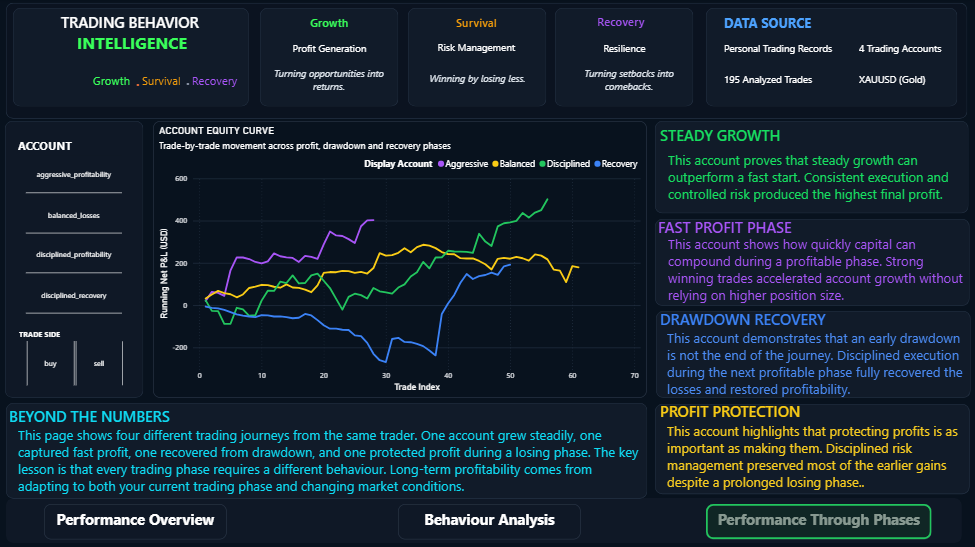

Layout of this report page (visuals, bound fields, positions):
{"tool":"powerbi","page":{"name":"Performance Through Phases","canvas":[1600,900],"ordinal":2},"visuals":[{"type":"shape","box":[10,3.6,1579.5,195.6],"z":0},{"type":"shape","box":[25.4,14.5,385.8,161.2],"z":1000},{"type":"shape","box":[429.3,14.5,226.4,161.2],"z":2000},{"type":"shape","box":[670.2,14.5,226.4,161.2],"z":3000},{"type":"shape","box":[911.1,14.5,226.4,161.2],"z":4000},{"type":"shape","box":[1159.2,14.5,411.2,161.2],"z":5000},{"type":"shape","box":[10.9,199.2,226.4,452.8],"z":6000},{"type":"textbox","box":[21.6,16.2,388.8,54],"z":7000},{"type":"textbox","box":[27,46.8,383.4,48.6],"z":8000},{"type":"shape","box":[12.6,817.2,1564.2,73.8],"z":9000},{"type":"textbox","box":[150.3,115.9,74.3,38],"z":10000},{"type":"textbox","box":[230,115.9,74.3,38],"z":11000},{"type":"textbox","box":[313.4,115.9,85.1,38],"z":12000},{"type":"textbox","box":[302.5,123.2,16.3,32.6],"z":13000},{"type":"textbox","box":[221,125,16.3,32.6],"z":14000},{"type":"textbox","box":[428.4,21.6,226.8,37.8],"z":15000},{"type":"textbox","box":[669.6,21.6,226.8,37.8],"z":16000},{"type":"textbox","box":[910.8,19.8,216,39.6],"z":17000},{"type":"textbox","box":[428.4,64.8,226.8,34.2],"z":18000},{"type":"textbox","box":[669.6,63,226.8,34.2],"z":19000},{"type":"textbox","box":[910.8,64.8,226.8,34.2],"z":20000},{"type":"textbox","box":[442,106.9,199.2,58],"z":21000},{"type":"textbox","box":[684.7,114.1,201.1,52.5],"z":22000},{"type":"textbox","box":[940.1,106.9,186.6,56.2],"z":23000},{"type":"textbox","box":[1182.8,19.9,157.6,41.7],"z":24000},{"type":"textbox","box":[1182.8,65.2,195.6,30.8],"z":25000},{"type":"textbox","box":[1182.8,115.9,172.1,34.4],"z":26000},{"type":"textbox","box":[1403.8,65.2,172.1,34.4],"z":27000},{"type":"textbox","box":[1403.8,115.9,172.1,34.4],"z":28000},{"type":"slicer","fields":{"Values":["fact_trades.a/c_name"]},"box":[19.8,223.2,207,298.8],"z":29000},{"type":"slicer","fields":{"Values":["fact_trades.side"]},"box":[21.6,534.6,207,104.4],"z":30000},{"type":"textbox","box":[75.6,826.2,298.8,57.6],"z":31000},{"type":"textbox","box":[655.2,826.2,298.8,57.6],"z":32000},{"type":"textbox","box":[1159.2,826.2,369,57.6],"z":33000},{"type":"lineChart","title":"ACCOUNT EQUITY CURVE","fields":{"Category":["fact_trades.Trade Index"],"Y":["fact_trades.Running Net P&L"],"Series":["fact_trades.Display Account"]},"box":[253.6,199.2,807.8,452.8],"z":34000},{"type":"shape","box":[1074.6,199.8,513,151.2],"z":35000},{"type":"textbox","box":[1090.8,243,498.6,129.6],"z":36000},{"type":"textbox","box":[1078.2,201.6,243,43.2],"z":37000},{"type":"shape","box":[1074.6,360,514.8,142.2],"z":38000},{"type":"textbox","box":[1090.8,381.6,498.6,136.8],"z":39000},{"type":"textbox","box":[1074.6,351,246.6,43.2],"z":40000},{"type":"shape","box":[1076.4,511.2,514.8,142.2],"z":41000},{"type":"textbox","box":[1089,534.6,500.4,127.8],"z":42000},{"type":"textbox","box":[1078.2,502.2,302.4,43.2],"z":43000},{"type":"shape","box":[1074.6,662.4,514.8,147.6],"z":44000},{"type":"textbox","box":[1089,687.6,511.2,122.4],"z":45000},{"type":"textbox","box":[1078.2,653.4,257.4,43.2],"z":46000},{"type":"shape","box":[12.6,660.6,1049.4,156.6],"z":47000},{"type":"textbox","box":[27,693,1035,124.2],"z":48000},{"type":"textbox","box":[12.6,660.6,275.4,45],"z":49000},{"type":"actionButton","box":[75.6,829.8,298.8,54],"z":50000},{"type":"actionButton","box":[655.2,829.8,298.8,54],"z":51000},{"type":"actionButton","box":[1159.2,826.2,369,57.6],"z":52000}]}

Visuals, with their boxes in screenshot pixels (x1, y1, x2, y2), scaled from the page's 1600x900 canvas onto the 975x547 screenshot:
shape: select_region(6, 2, 969, 121)
shape: select_region(15, 9, 251, 107)
shape: select_region(262, 9, 400, 107)
shape: select_region(408, 9, 546, 107)
shape: select_region(555, 9, 693, 107)
shape: select_region(706, 9, 957, 107)
shape: select_region(7, 121, 145, 396)
textbox: select_region(13, 10, 250, 43)
textbox: select_region(16, 28, 250, 58)
shape: select_region(8, 497, 961, 542)
textbox: select_region(92, 70, 137, 94)
textbox: select_region(140, 70, 185, 94)
textbox: select_region(191, 70, 243, 94)
textbox: select_region(184, 75, 194, 95)
textbox: select_region(135, 76, 145, 96)
textbox: select_region(261, 13, 399, 36)
textbox: select_region(408, 13, 546, 36)
textbox: select_region(555, 12, 687, 36)
textbox: select_region(261, 39, 399, 60)
textbox: select_region(408, 38, 546, 59)
textbox: select_region(555, 39, 693, 60)
textbox: select_region(269, 65, 391, 100)
textbox: select_region(417, 69, 540, 101)
textbox: select_region(573, 65, 687, 99)
textbox: select_region(721, 12, 817, 37)
textbox: select_region(721, 40, 840, 58)
textbox: select_region(721, 70, 826, 91)
textbox: select_region(855, 40, 960, 61)
textbox: select_region(855, 70, 960, 91)
slicer - fact_trades.a/c_name: select_region(12, 136, 138, 317)
slicer - fact_trades.side: select_region(13, 325, 139, 388)
textbox: select_region(46, 502, 228, 537)
textbox: select_region(399, 502, 581, 537)
textbox: select_region(706, 502, 931, 537)
"ACCOUNT EQUITY CURVE" lineChart: select_region(155, 121, 647, 396)
shape: select_region(655, 121, 967, 213)
textbox: select_region(665, 148, 969, 226)
textbox: select_region(657, 123, 805, 149)
shape: select_region(655, 219, 969, 305)
textbox: select_region(665, 232, 969, 315)
textbox: select_region(655, 213, 805, 240)
shape: select_region(656, 311, 970, 397)
textbox: select_region(664, 325, 969, 403)
textbox: select_region(657, 305, 841, 331)
shape: select_region(655, 403, 969, 492)
textbox: select_region(664, 418, 974, 492)
textbox: select_region(657, 397, 814, 423)
shape: select_region(8, 401, 647, 497)
textbox: select_region(16, 421, 647, 497)
textbox: select_region(8, 401, 176, 429)
actionButton: select_region(46, 504, 228, 537)
actionButton: select_region(399, 504, 581, 537)
actionButton: select_region(706, 502, 931, 537)
